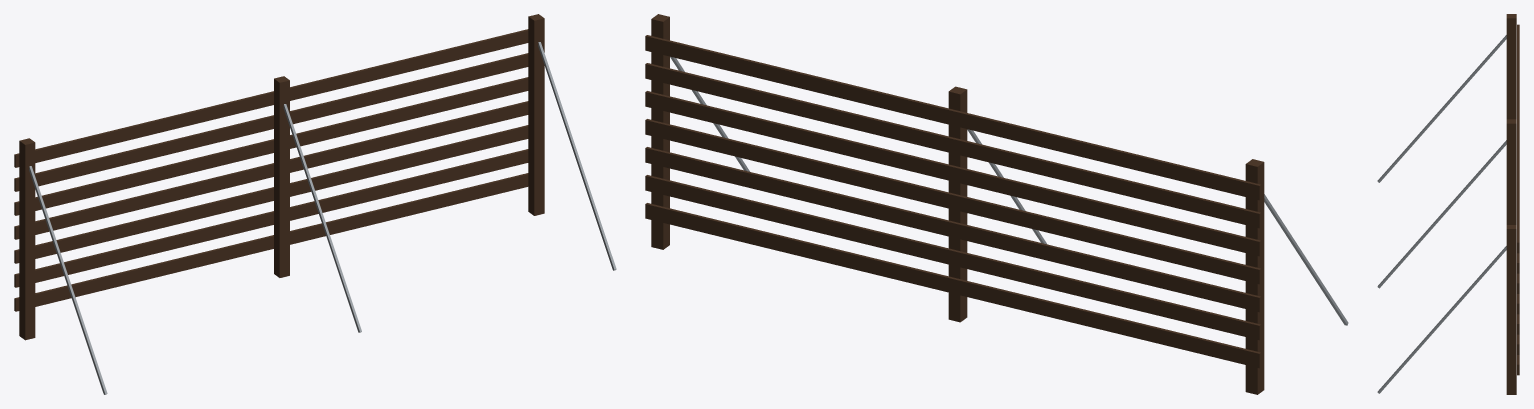
File: prop-snow_fence.glb
The picture shows the model from 3 angles, left to right: view 1: azimuth 30°, elevation 25°; view 2: azimuth 150°, elevation 25°; view 3: azimuth 270°, elevation 25°; orthographic projection. The views are drawn at different scales.
Visible parts, largest first — view 1: snow_fence; view 2: snow_fence; view 3: snow_fence.
Boxes of the visible parts, x1,y1,x2,y2 form: snow_fence: (14,14,616,394); snow_fence: (645,14,1348,394); snow_fence: (1377,14,1519,394).
Size of the model in its own units: 6.2 by 2.21 by 1.71.
